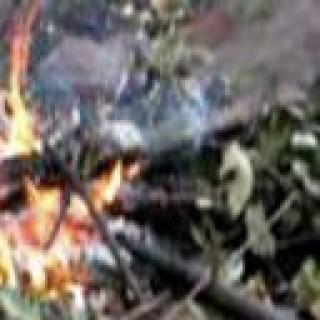fire: (0, 17, 108, 300)
